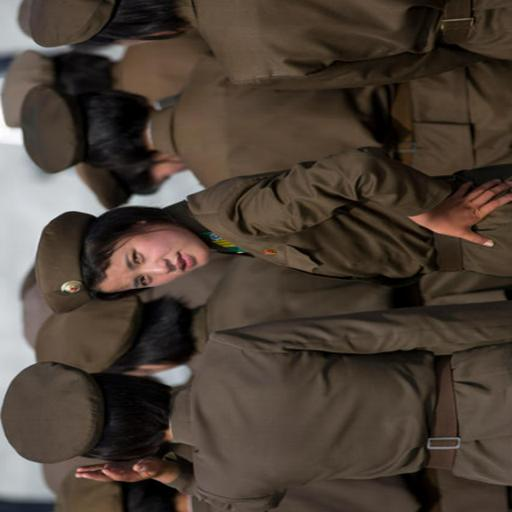north army: (0, 36, 512, 460)
